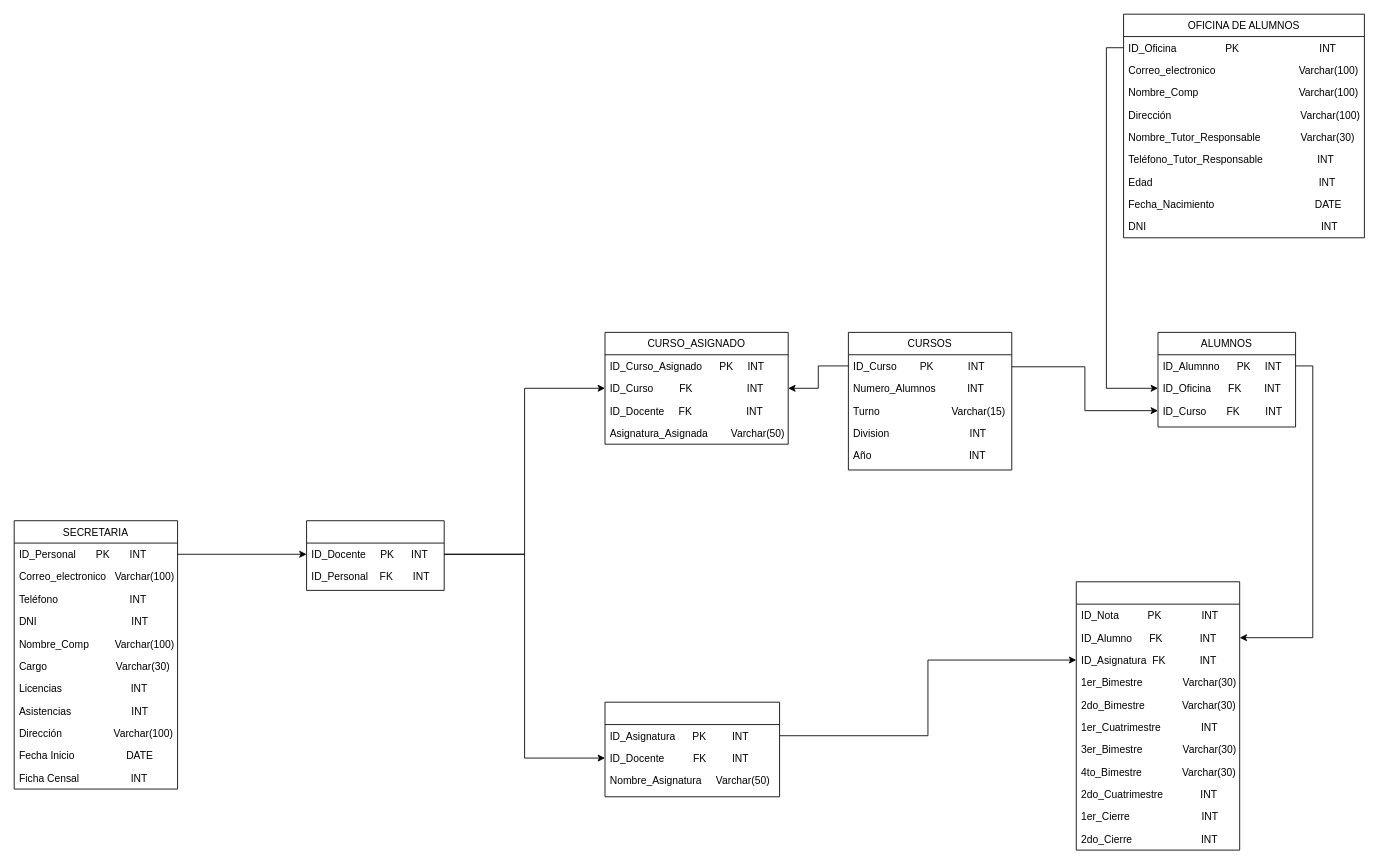
Some shapes in this 1379 by 864 pixel diagram are drawn without their labels. The box of each missing label's shape, as (x1, y1, x2, y2) in pixels:
ASIGNATURAS: (604, 701, 780, 797)
DOCENTES: (306, 520, 444, 590)
NOTAS: (1075, 581, 1240, 850)
